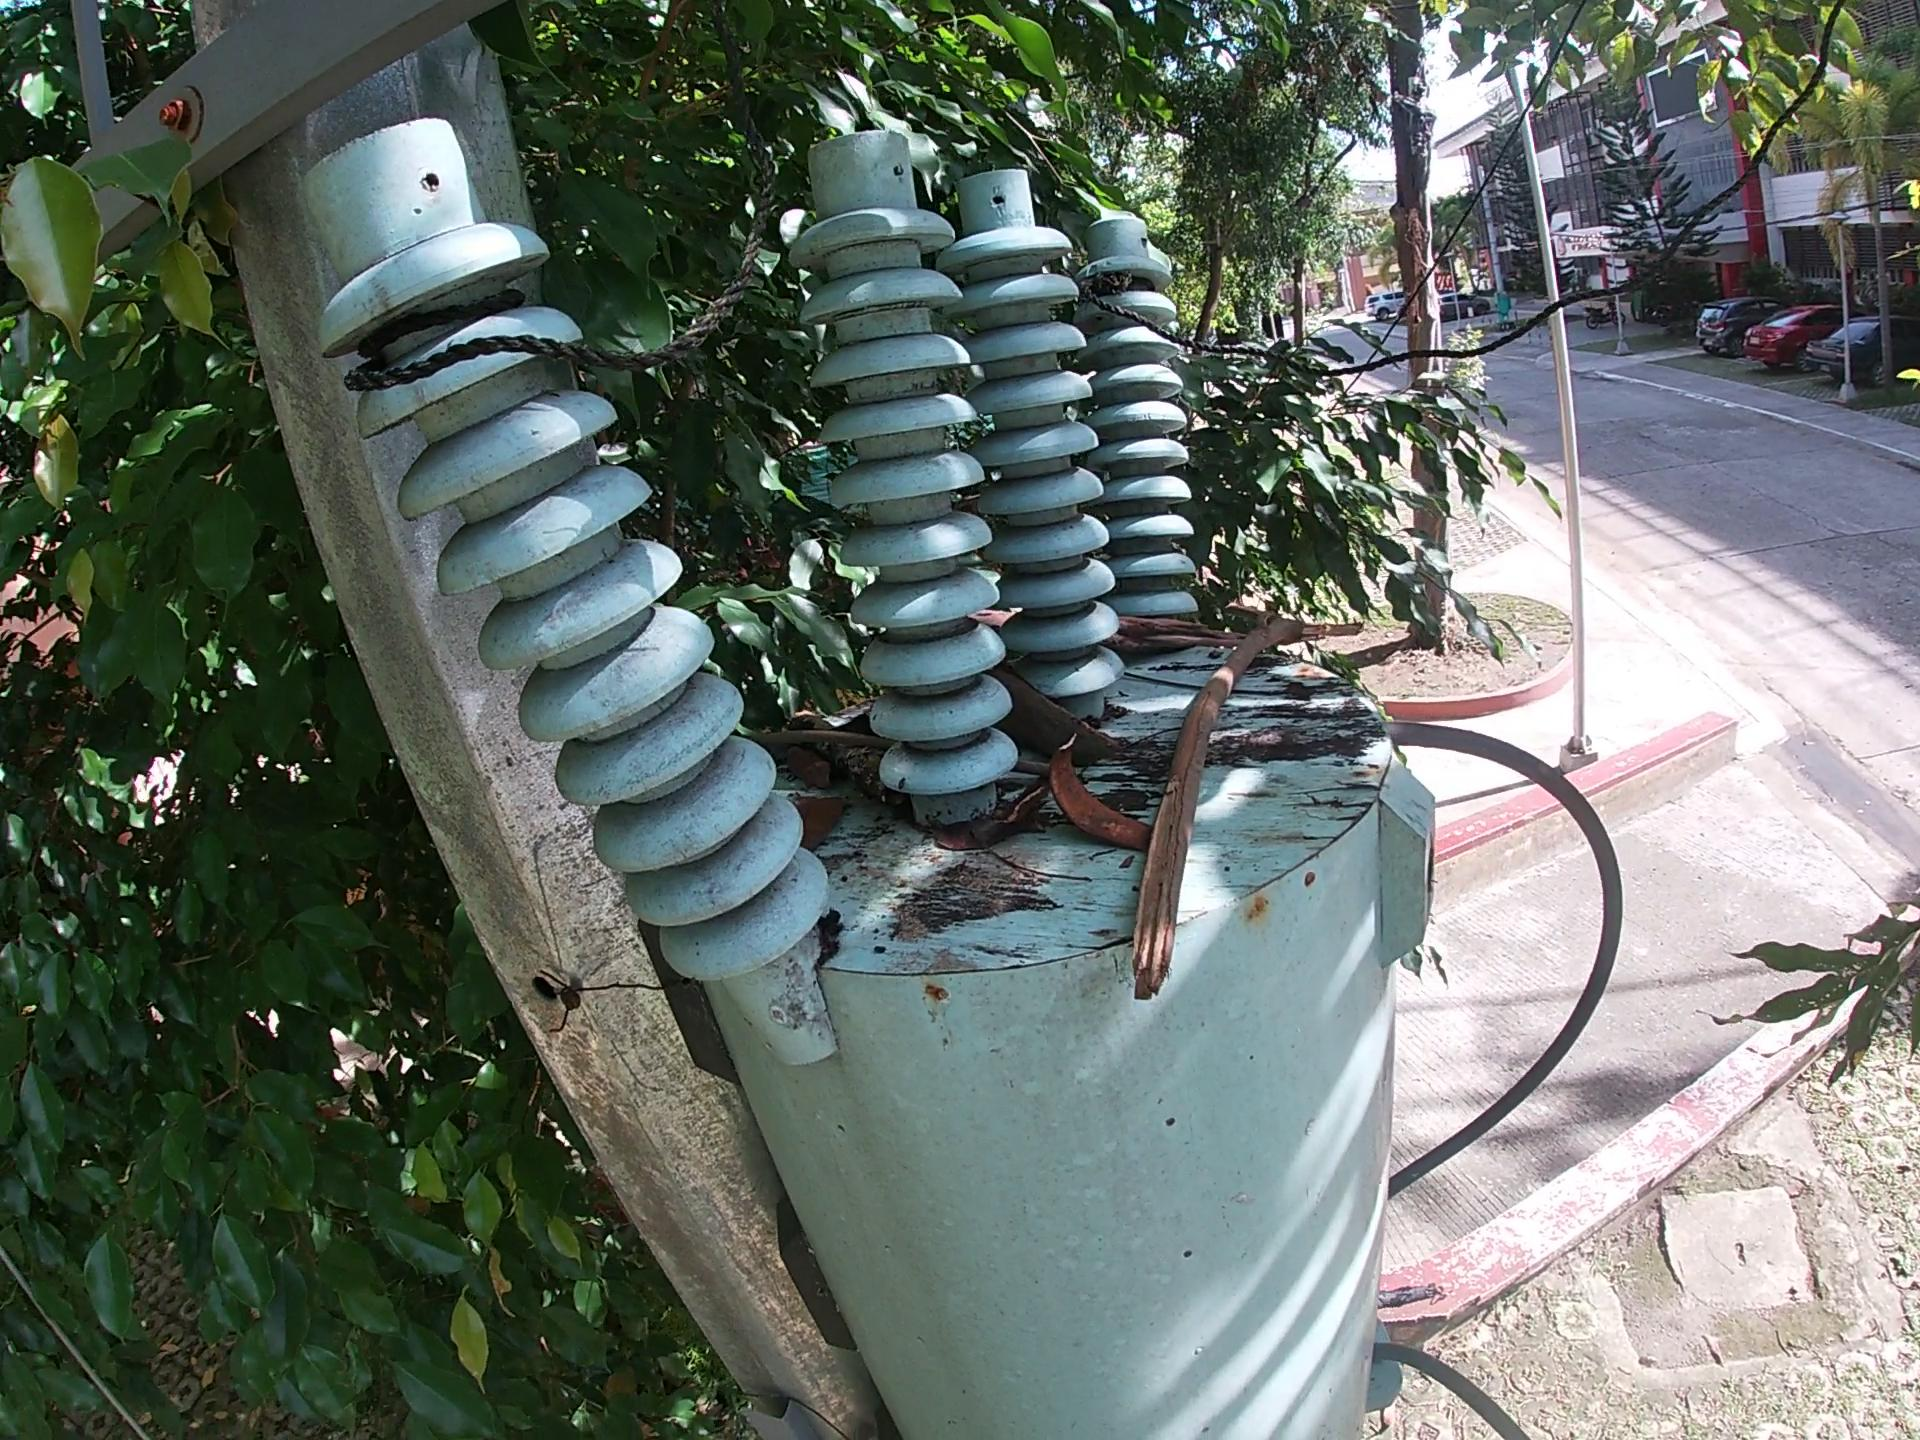leaf: (812, 771, 865, 839), (924, 827, 987, 861)
mahogany fruit: (984, 661, 1132, 770), (1049, 737, 1144, 864)
tree branch: (1135, 596, 1377, 1012), (788, 711, 890, 793), (1102, 614, 1250, 663), (984, 839, 1110, 880), (962, 784, 1046, 843), (1234, 670, 1359, 703), (748, 728, 890, 749), (1116, 663, 1196, 691), (977, 611, 1020, 634), (1005, 765, 1048, 779)
